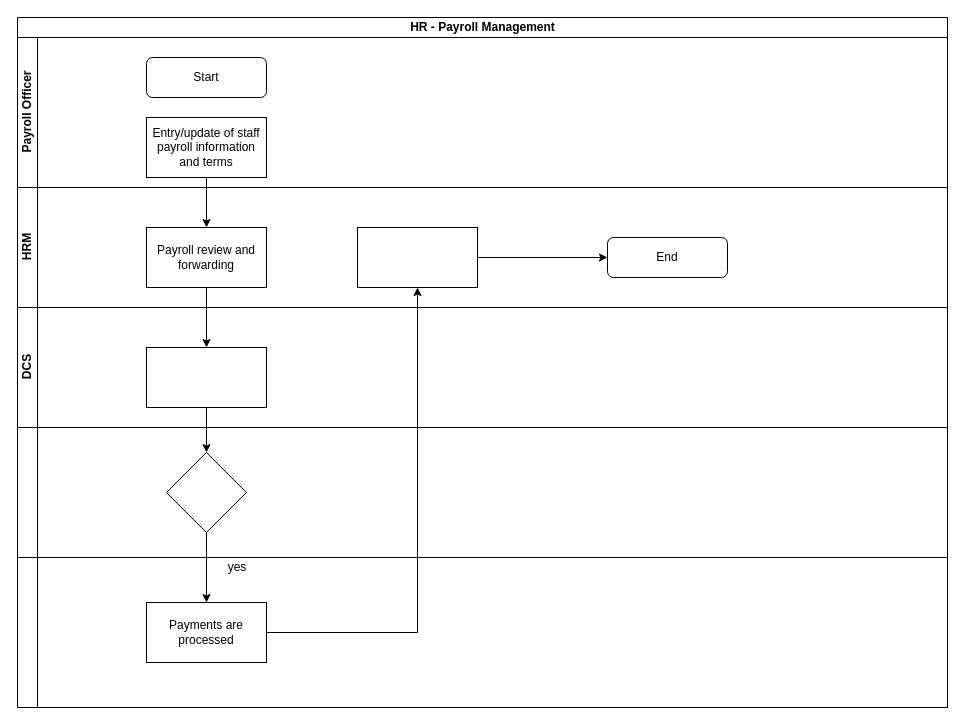
Image size: 965x725. Some labels were removed from this diagram. The box of each missing label's shape, as (x1, y1, x2, y2) in pixels:
Approved?: (166, 452, 246, 532)
CEO: (16, 426, 948, 558)
Distribution of payslips: (356, 226, 478, 288)
Finance: (16, 556, 948, 708)
Payroll confirmation and forwarding: (146, 346, 266, 408)
